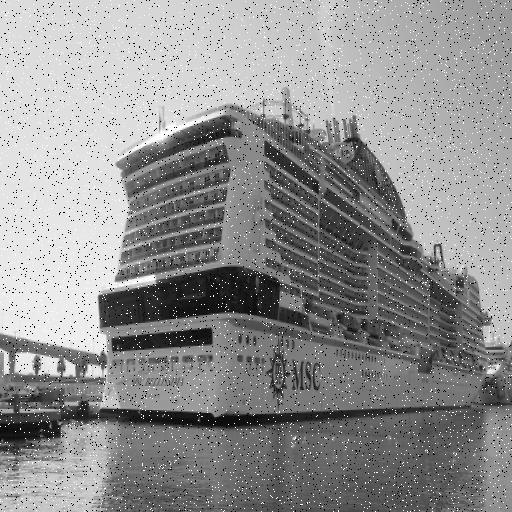cruises: (94, 94, 499, 437), (477, 328, 512, 425)
